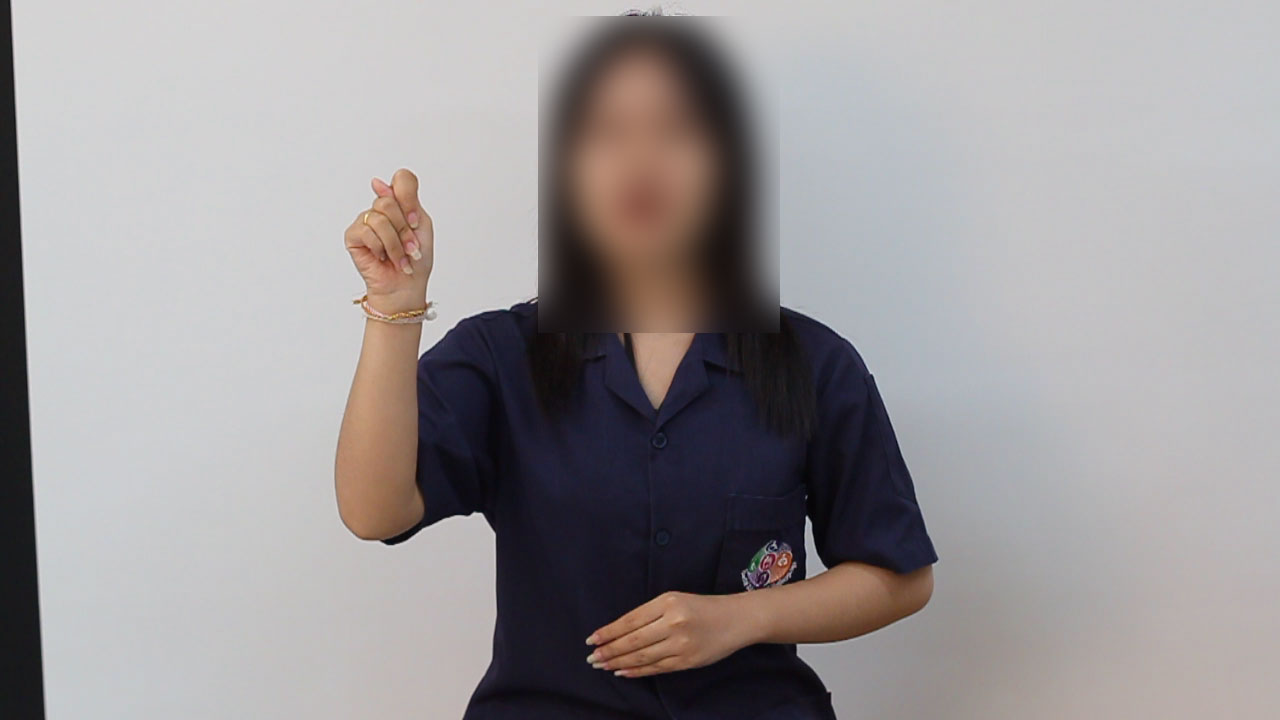tor: (322, 156, 465, 308)
